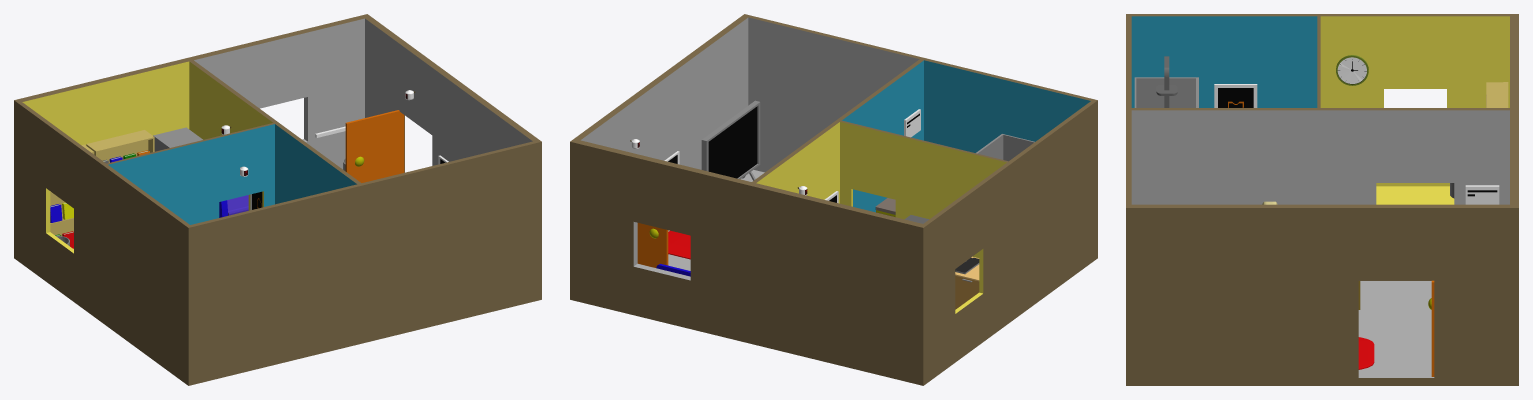
The model's file is maison.glb.
3 renders of one model, left to right at view 1: azimuth 30°, elevation 25°; view 2: azimuth 150°, elevation 25°; view 3: azimuth 270°, elevation 25°, orthographic. The views are drawn at different scales.
Visible parts, largest first — view 1: Plane, Plane.017, Plane.083, Plane.093, Plane.021; view 2: Plane, Plane.004, Plane.017, Plane.110, Plane.116, Cube.010; view 3: Plane, Plane.116, Plane.118, Plane.106, Plane.066, Plane.083, Cube.010, Plane.017.
Boxes of the visible parts, bbox=[...] form: Plane: bbox=[14, 14, 541, 385]; Plane.017: bbox=[345, 110, 404, 182]; Plane.083: bbox=[50, 130, 154, 248]; Plane.093: bbox=[153, 127, 202, 151]; Plane.021: bbox=[219, 195, 248, 217]; Plane: bbox=[570, 14, 1097, 385]; Plane.004: bbox=[701, 100, 760, 180]; Plane.017: bbox=[637, 223, 668, 267]; Plane.110: bbox=[904, 215, 979, 309]; Plane.116: bbox=[976, 134, 1034, 161]; Cube.010: bbox=[668, 230, 690, 259]; Plane: bbox=[1126, 14, 1518, 385]; Plane.116: bbox=[1134, 56, 1198, 107]; Plane.118: bbox=[1214, 84, 1257, 107]; Plane.106: bbox=[1336, 55, 1368, 85]; Plane.066: bbox=[1465, 185, 1499, 204]; Plane.083: bbox=[1486, 82, 1508, 107]; Cube.010: bbox=[1358, 337, 1374, 369]; Plane.017: bbox=[1428, 280, 1434, 376].
Size of the model in its own units: 10.4 by 4.44 by 8.9.
